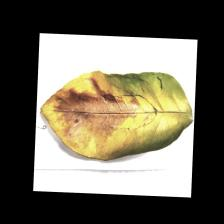canker: (48, 80, 138, 150)
